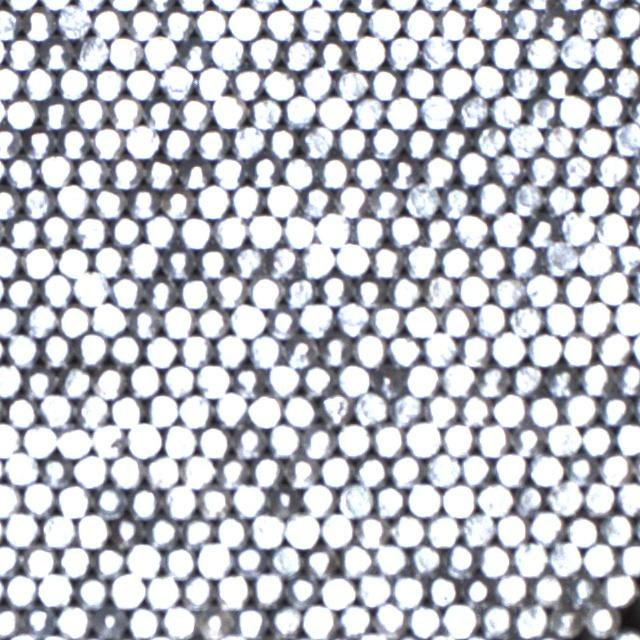tool: (230, 482, 266, 517), (422, 330, 457, 366), (512, 540, 547, 576), (406, 482, 441, 517), (285, 512, 320, 547), (56, 483, 91, 518), (336, 421, 371, 456), (126, 422, 161, 457), (460, 510, 495, 545), (477, 481, 512, 516), (424, 452, 459, 487), (216, 572, 250, 608), (162, 422, 196, 458), (548, 479, 582, 515), (565, 572, 599, 608), (508, 303, 543, 337), (442, 482, 476, 517), (320, 511, 354, 546), (180, 453, 214, 488), (230, 123, 265, 157), (595, 152, 629, 187), (596, 269, 630, 304), (319, 452, 353, 487), (230, 302, 264, 337), (56, 603, 90, 638), (371, 421, 405, 456), (337, 483, 371, 518), (545, 421, 580, 455), (109, 454, 144, 488), (406, 420, 440, 455), (387, 333, 421, 368), (265, 244, 299, 279), (405, 361, 439, 396), (4, 511, 39, 545), (492, 211, 526, 246), (356, 572, 391, 606), (354, 453, 388, 488), (548, 540, 582, 575), (560, 210, 595, 244), (38, 572, 72, 607), (196, 484, 230, 519), (110, 572, 144, 607), (509, 360, 544, 394), (442, 543, 477, 577), (531, 572, 565, 607), (354, 513, 388, 548), (194, 64, 229, 98), (373, 601, 407, 636), (455, 212, 489, 247), (74, 453, 108, 488), (22, 423, 57, 457), (198, 605, 232, 640), (21, 480, 55, 515), (600, 571, 634, 606), (110, 393, 144, 428), (579, 360, 613, 395), (582, 480, 616, 514), (491, 331, 525, 365), (265, 182, 299, 216), (41, 512, 75, 546), (544, 300, 578, 334), (458, 451, 492, 485), (600, 512, 634, 546), (91, 243, 125, 277), (390, 513, 424, 547), (559, 152, 593, 186), (457, 333, 491, 367), (561, 332, 595, 366), (4, 450, 38, 484), (234, 604, 268, 638), (408, 602, 442, 636), (320, 574, 354, 608), (212, 154, 246, 188), (214, 332, 248, 366), (56, 4, 90, 38), (524, 34, 558, 68), (163, 604, 197, 638), (597, 330, 631, 364), (404, 303, 438, 337), (566, 513, 600, 547), (456, 272, 490, 306), (338, 602, 372, 636), (56, 182, 90, 216), (509, 182, 543, 216), (232, 424, 266, 458), (264, 5, 298, 39), (246, 34, 280, 68), (4, 332, 38, 366), (404, 182, 438, 216), (90, 422, 124, 456), (514, 602, 548, 636), (281, 155, 315, 189), (127, 485, 161, 519), (282, 93, 316, 127), (529, 452, 563, 486), (318, 392, 352, 426), (39, 454, 73, 488), (195, 245, 229, 279), (178, 333, 212, 367), (561, 271, 595, 305), (576, 124, 610, 158), (389, 452, 423, 486), (144, 574, 178, 608), (267, 422, 301, 456), (229, 183, 263, 217), (127, 362, 161, 396), (506, 5, 540, 39), (230, 244, 264, 278), (582, 541, 616, 575), (93, 484, 127, 518), (75, 513, 109, 547), (39, 392, 73, 426), (146, 454, 180, 488), (494, 571, 528, 605), (543, 240, 577, 274), (425, 513, 459, 547), (525, 272, 559, 306), (228, 4, 262, 38), (439, 184, 473, 218), (269, 542, 303, 576), (23, 303, 57, 337), (92, 605, 126, 639), (213, 214, 247, 248), (301, 482, 335, 516), (388, 212, 422, 246), (548, 605, 582, 639), (507, 242, 541, 276), (178, 214, 212, 248), (408, 541, 442, 575), (211, 94, 245, 128), (247, 213, 281, 247), (298, 4, 332, 38), (508, 424, 542, 458), (75, 574, 109, 608), (213, 391, 247, 425), (302, 604, 336, 638), (178, 393, 212, 427), (319, 332, 353, 366), (339, 542, 373, 576), (250, 513, 284, 547), (564, 451, 598, 485), (584, 604, 618, 638), (492, 392, 526, 426), (299, 302, 333, 336), (5, 393, 39, 427), (578, 301, 612, 335), (74, 36, 108, 70), (351, 35, 385, 69), (354, 390, 388, 424), (74, 272, 108, 306), (248, 274, 282, 308), (506, 64, 540, 98), (247, 393, 281, 427), (58, 542, 92, 576), (282, 393, 316, 427), (303, 544, 337, 578), (529, 509, 563, 543), (159, 65, 193, 99), (301, 362, 335, 396), (301, 424, 335, 458), (21, 602, 55, 636), (163, 483, 196, 518), (57, 423, 90, 458), (371, 302, 404, 337), (385, 35, 420, 68), (475, 180, 508, 215), (197, 423, 230, 458), (230, 362, 263, 397), (143, 34, 176, 68), (456, 151, 490, 184), (368, 5, 402, 38), (443, 602, 476, 636), (267, 362, 300, 396), (58, 303, 91, 337), (421, 34, 454, 68), (196, 362, 229, 396), (335, 125, 369, 158), (442, 361, 475, 395), (316, 212, 350, 245), (494, 452, 527, 486), (92, 301, 125, 335), (336, 301, 369, 335), (596, 211, 629, 245), (91, 124, 124, 158), (212, 34, 245, 68), (163, 362, 196, 396), (598, 450, 631, 484), (473, 122, 507, 155), (215, 514, 248, 548), (333, 6, 366, 40), (422, 272, 455, 306), (40, 332, 73, 366), (126, 124, 159, 158), (284, 455, 318, 488), (370, 244, 403, 278), (108, 35, 142, 68), (180, 574, 213, 608), (161, 126, 194, 160), (317, 94, 350, 128), (542, 123, 576, 156), (109, 156, 142, 190), (473, 244, 507, 277), (5, 273, 38, 307), (421, 154, 454, 188), (143, 96, 176, 130), (385, 94, 419, 127), (40, 271, 73, 305), (127, 605, 161, 638), (544, 182, 577, 216), (195, 126, 228, 160), (109, 94, 142, 128), (317, 272, 350, 306), (372, 483, 405, 517), (420, 94, 453, 128), (266, 125, 299, 159), (492, 274, 525, 308), (334, 183, 368, 216), (4, 572, 37, 606), (216, 456, 249, 490), (91, 66, 125, 99), (338, 362, 372, 395), (92, 365, 126, 398), (109, 332, 142, 366), (353, 332, 386, 366), (368, 66, 402, 99), (269, 604, 302, 638), (490, 93, 523, 127), (213, 273, 246, 307), (282, 36, 316, 69), (524, 93, 557, 127), (109, 274, 143, 307), (126, 243, 160, 276), (230, 66, 263, 100), (144, 156, 177, 190), (21, 244, 55, 277), (58, 364, 92, 397), (177, 95, 210, 129), (144, 275, 177, 309), (512, 482, 545, 516), (145, 514, 178, 548), (125, 66, 158, 100), (541, 8, 575, 41), (424, 391, 458, 424), (475, 422, 509, 455), (127, 542, 160, 576), (248, 334, 281, 368), (527, 332, 560, 366), (402, 6, 436, 39), (75, 330, 108, 364), (458, 393, 492, 426), (300, 242, 333, 276), (197, 542, 230, 576), (545, 364, 578, 398), (145, 392, 178, 426), (92, 544, 125, 578), (282, 335, 316, 368), (268, 483, 302, 516), (283, 213, 316, 247), (301, 124, 334, 158), (335, 242, 368, 276), (75, 155, 108, 189), (454, 34, 487, 68), (580, 422, 613, 456), (163, 544, 196, 578), (477, 542, 510, 576), (563, 391, 597, 424), (232, 542, 266, 575), (352, 214, 386, 247), (75, 392, 108, 426), (402, 64, 436, 97), (74, 214, 107, 248), (22, 543, 56, 576), (579, 240, 613, 273), (352, 94, 385, 128), (250, 454, 283, 488), (301, 184, 333, 219), (508, 122, 541, 155), (196, 183, 229, 216), (593, 34, 626, 67), (471, 4, 504, 37), (92, 184, 125, 217), (559, 33, 592, 66), (91, 6, 124, 39), (144, 334, 177, 367), (57, 244, 90, 277), (5, 156, 38, 189), (57, 126, 90, 159), (283, 275, 316, 308), (441, 303, 474, 336), (5, 95, 38, 128), (143, 213, 176, 246), (474, 302, 507, 335), (437, 7, 470, 40), (490, 35, 523, 68), (373, 541, 406, 574), (593, 92, 626, 125), (388, 274, 421, 307), (21, 185, 54, 218), (439, 244, 472, 277), (40, 37, 73, 70), (369, 185, 402, 218), (404, 125, 437, 158), (180, 514, 213, 547), (126, 6, 159, 39), (266, 307, 299, 340), (6, 215, 39, 248), (247, 96, 280, 129), (390, 392, 423, 425), (422, 214, 455, 247), (479, 603, 512, 636), (126, 185, 159, 218), (599, 392, 632, 425), (111, 515, 144, 548), (352, 155, 385, 188), (576, 64, 609, 97), (527, 393, 560, 426), (299, 65, 332, 98), (177, 38, 210, 71), (22, 7, 55, 40), (461, 573, 494, 606), (22, 66, 55, 99), (526, 213, 559, 246), (74, 95, 107, 128), (352, 275, 385, 308), (40, 152, 72, 186), (496, 511, 528, 545), (370, 124, 402, 158), (392, 573, 424, 607), (318, 154, 350, 188), (558, 93, 590, 127), (442, 422, 474, 456), (196, 304, 228, 338), (492, 151, 524, 185), (40, 213, 72, 247), (6, 36, 40, 68), (335, 66, 367, 100), (472, 63, 504, 97), (40, 96, 72, 130), (476, 363, 508, 397), (162, 245, 194, 279), (578, 182, 610, 216), (526, 152, 558, 186), (248, 154, 280, 188), (372, 366, 406, 398), (23, 366, 57, 398), (24, 126, 56, 160), (162, 304, 194, 337), (179, 276, 212, 308), (194, 6, 227, 38), (161, 8, 194, 40), (162, 186, 194, 219), (456, 94, 488, 127), (316, 38, 349, 70), (386, 157, 418, 190), (438, 126, 471, 158), (404, 244, 437, 276), (576, 6, 609, 38), (252, 571, 284, 604), (109, 214, 142, 246), (264, 66, 296, 99), (286, 574, 319, 606), (57, 65, 89, 98), (426, 574, 459, 606), (438, 64, 470, 97), (178, 158, 211, 190), (542, 65, 574, 98), (609, 3, 640, 37), (128, 306, 160, 338), (610, 63, 640, 97), (611, 120, 640, 154), (611, 182, 640, 216), (613, 360, 640, 394), (614, 300, 640, 334), (614, 239, 640, 272), (615, 420, 640, 454), (616, 480, 640, 514), (0, 125, 23, 159), (0, 362, 22, 396), (618, 541, 640, 575), (0, 4, 21, 38), (0, 304, 21, 338), (0, 604, 21, 638), (0, 542, 21, 576), (0, 186, 21, 220), (0, 421, 20, 456), (0, 65, 21, 98), (0, 481, 19, 516), (0, 242, 19, 276)
